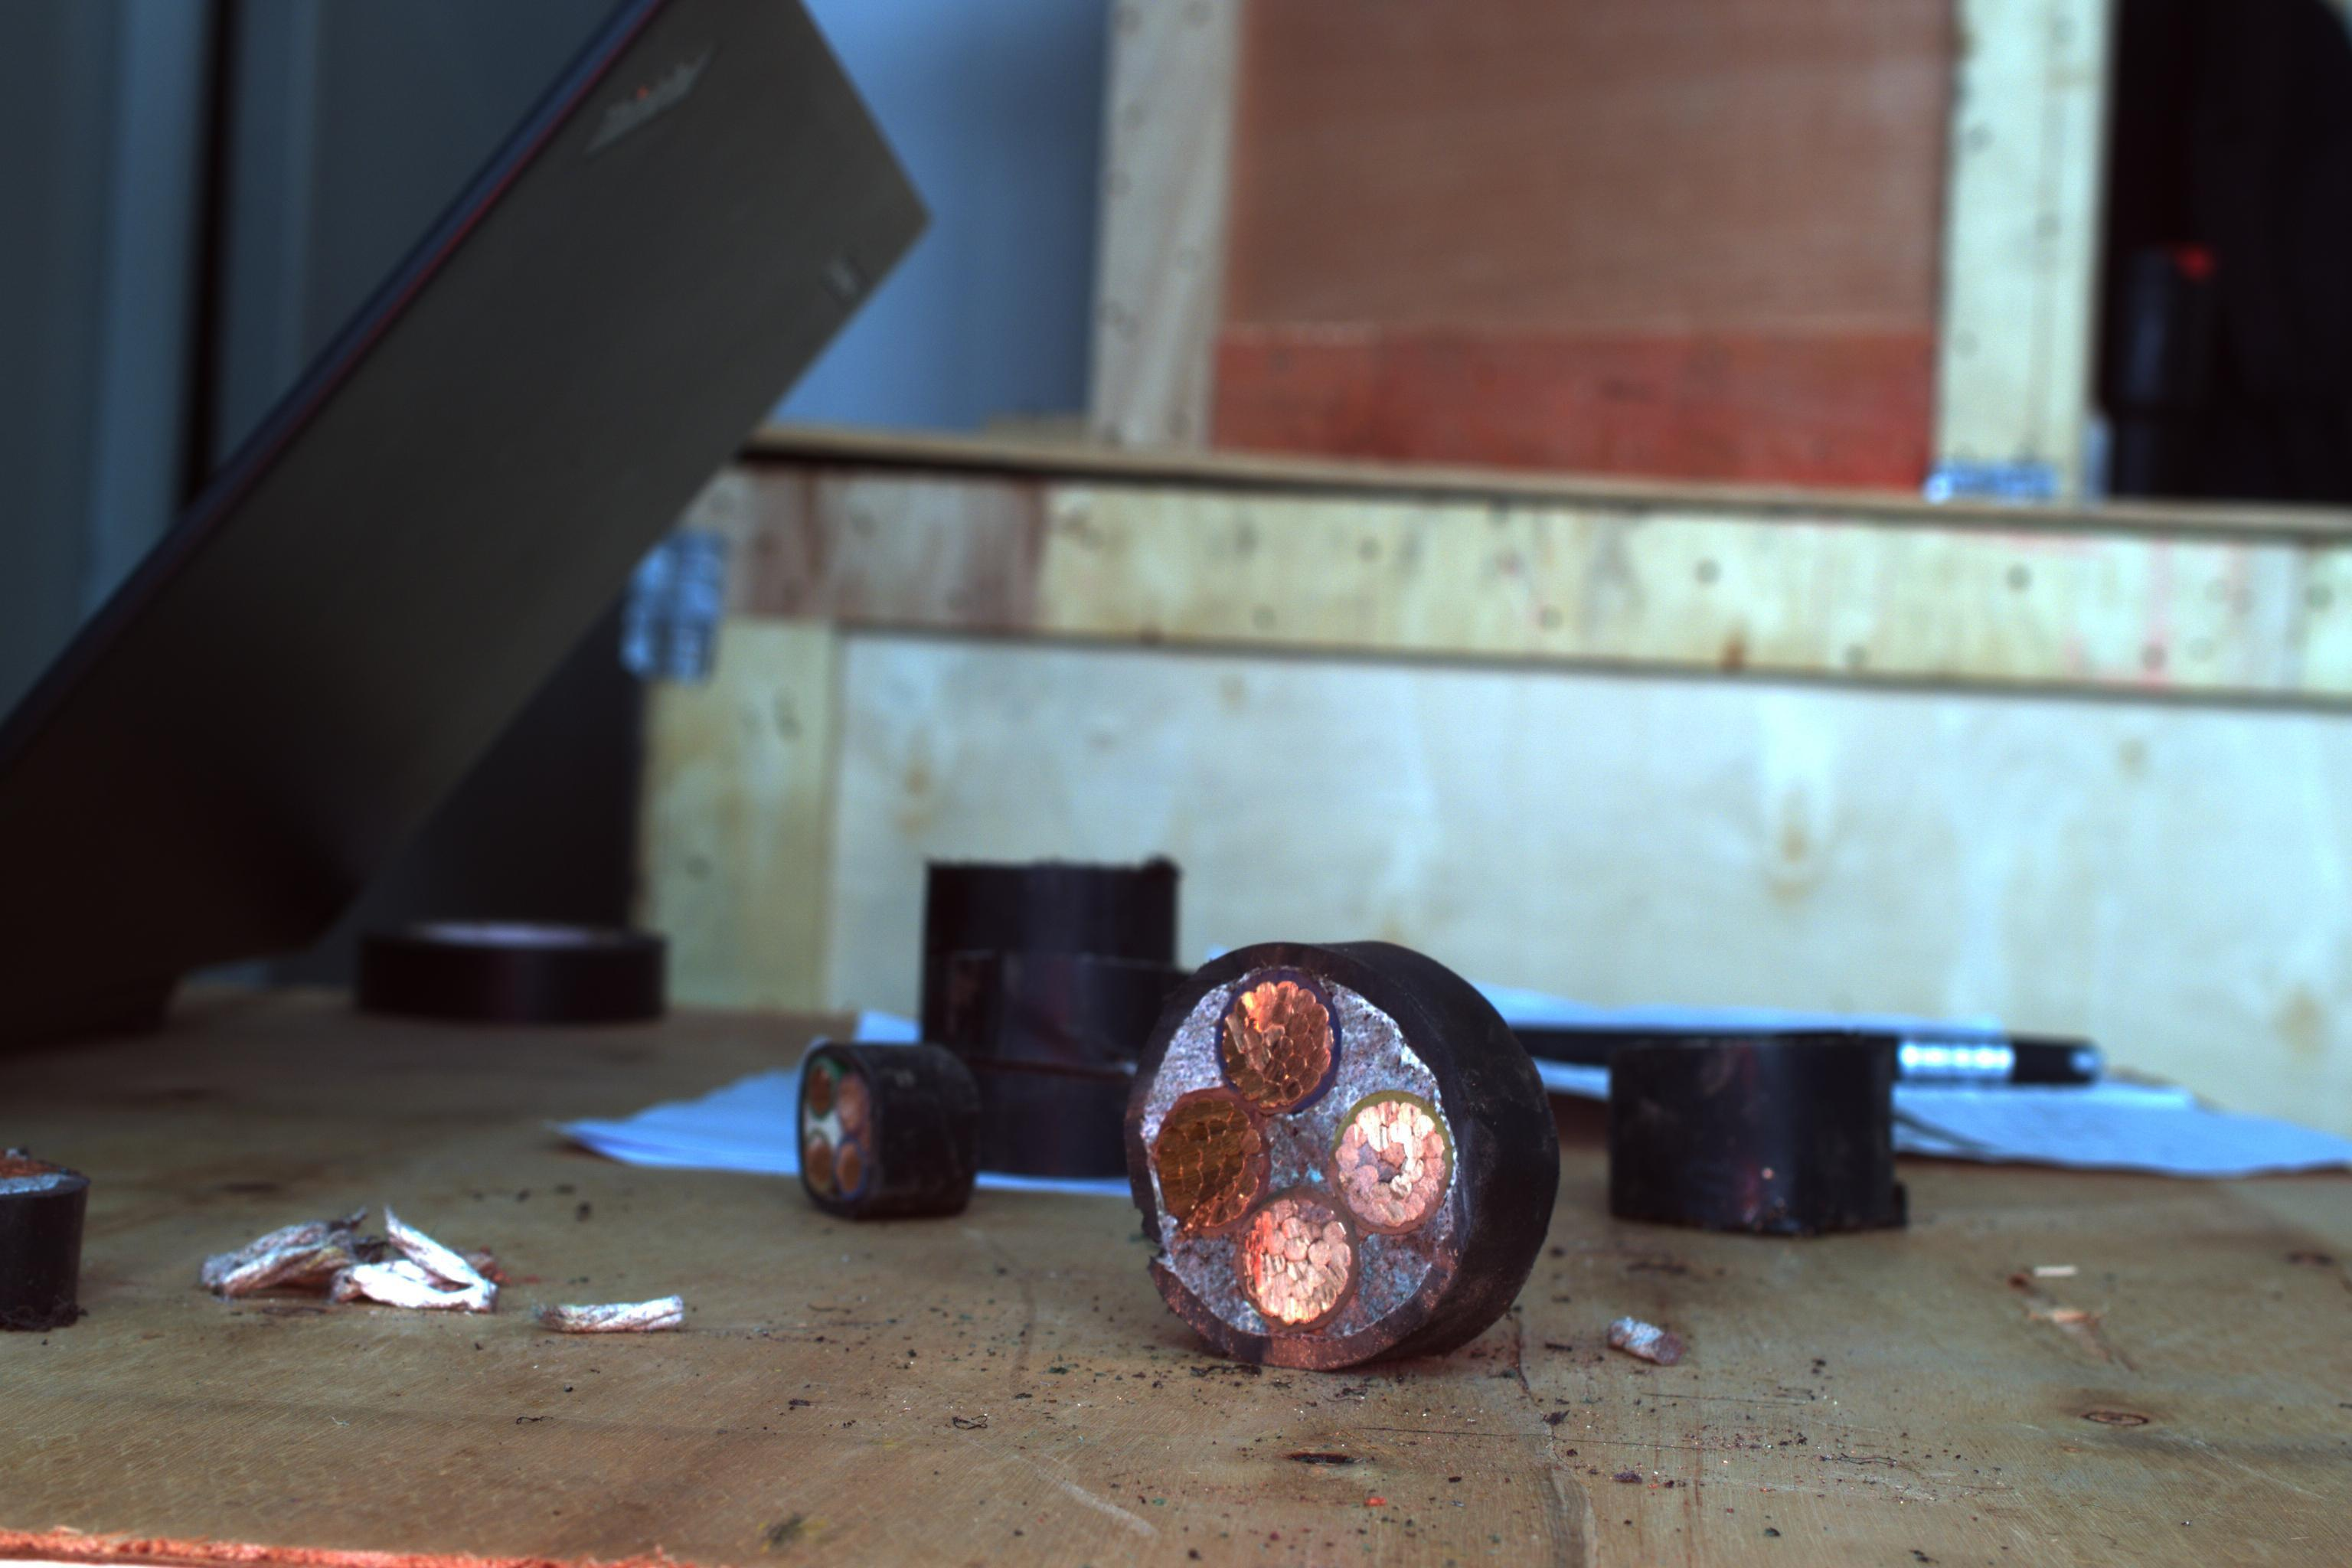YJV_0.6_1kV_4x120: (1099, 924, 1507, 1365)
